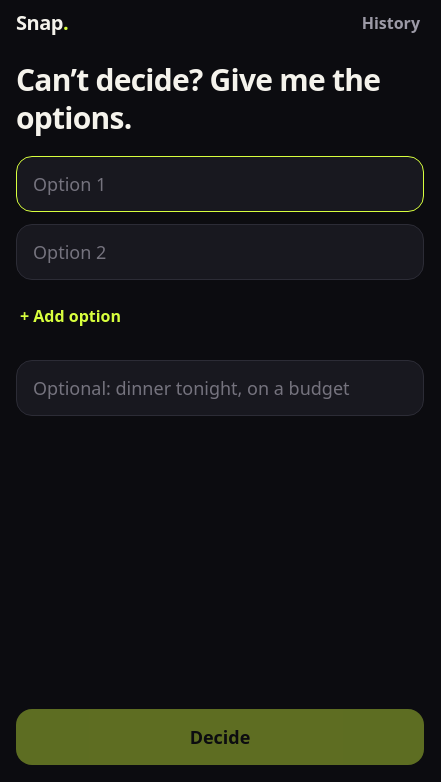
Test: close-call message › appears when the top two differ by under 10 points, with the pick still shown
In the field labelled "Option 1": (220, 184) [16,156,424,212], type "tacos"
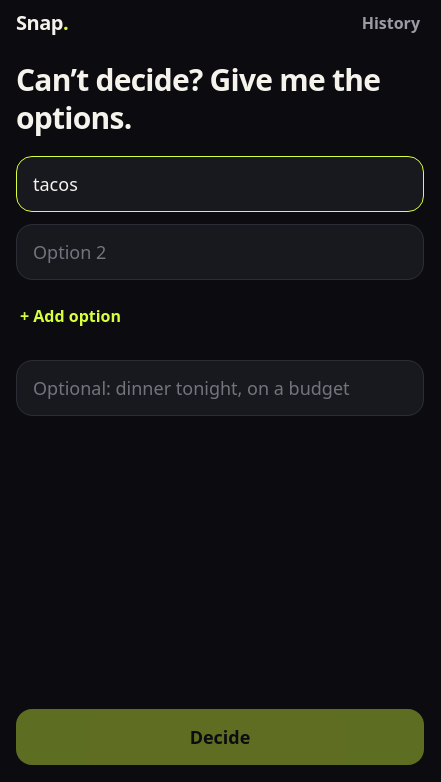
In the field labelled "Option 2": (220, 252) [16,224,424,280], type "ramen"
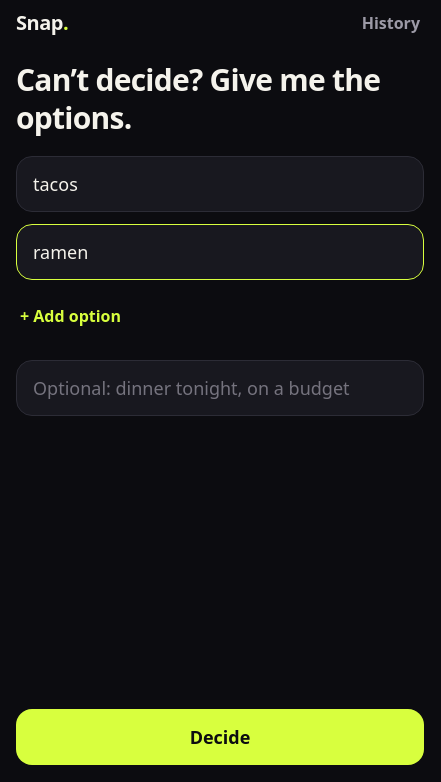
Click the button "Decide": (220, 737) [16,709,424,765]
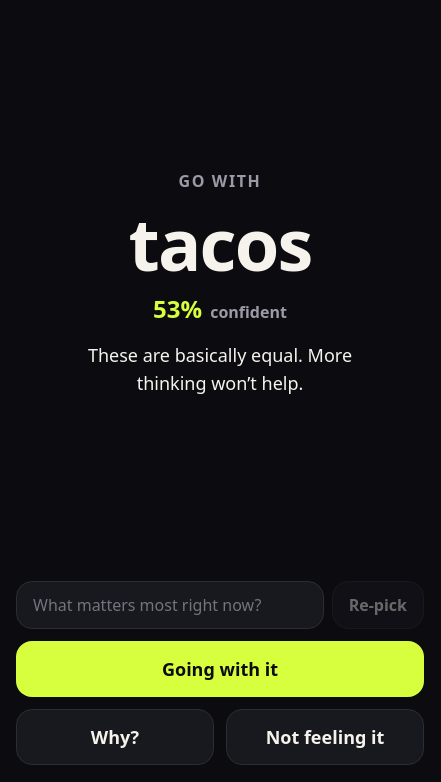
Check: the heading with test id "pick" reads "tacos", box [128,194,312,292]
Check: the text "These are basically equal. More thinking won’t help." is shown, box [88,343,352,395]
